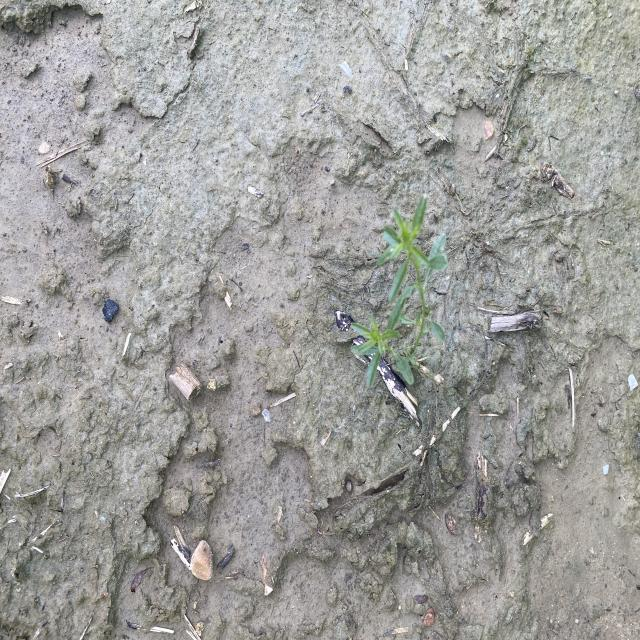Waterhemp: (348, 192, 452, 392)
